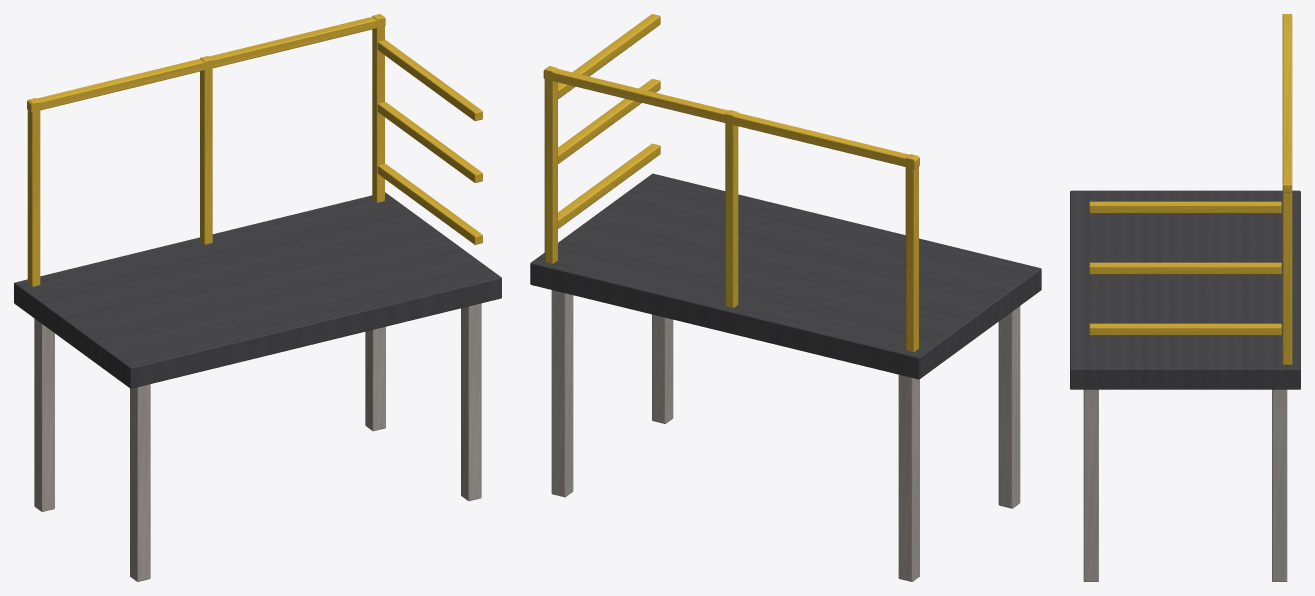
The model's file is service_platform.glb.
3 renders of one model, left to right at view 1: azimuth 30°, elevation 25°; view 2: azimuth 150°, elevation 25°; view 3: azimuth 270°, elevation 25°, orthographic. The views are drawn at different scales.
Visible parts, largest first — view 1: deck, top_rail, leg.004, leg.006, leg.005, rail_post, rail_post.001, rail_post.002, leg.007, side_rail.002, side_rail, side_rail.001; view 2: deck, top_rail, leg.007, leg.005, leg.004, rail_post, rail_post.001, rail_post.002, leg.006, side_rail, side_rail.001, side_rail.002; view 3: deck, leg.006, leg.007, side_rail, side_rail.001, side_rail.002, rail_post.002, top_rail.
Part boxes in pixels (x1,y1,x2,y2): deck: (14,192,501,388); top_rail: (27,16,385,112); leg.004: (130,384,150,581); leg.006: (461,303,481,500); leg.005: (34,318,54,511); rail_post: (27,98,40,286); rail_post.001: (200,56,212,244); rail_post.002: (372,14,384,202); leg.007: (365,326,385,431); side_rail.002: (377,40,482,121); side_rail: (377,163,482,244); side_rail.001: (377,102,482,182); deck: (530,173,1041,379); top_rail: (543,69,919,169); leg.007: (551,290,573,497); leg.005: (898,374,919,581); leg.004: (998,306,1020,508); rail_post: (905,154,918,351); rail_post.001: (725,110,738,307); rail_post.002: (544,66,557,263); leg.006: (652,314,673,423); side_rail: (558,143,660,228); side_rail.001: (558,79,660,163); side_rail.002: (558,14,660,98); deck: (1070,190,1300,389); leg.006: (1083,389,1098,581); leg.007: (1272,389,1287,581); side_rail: (1089,323,1281,335); side_rail.001: (1089,262,1281,274); side_rail.002: (1089,201,1281,213); rail_post.002: (1282,179,1292,364); top_rail: (1282,18,1292,192).
Size of the model in its own units: 2.2 by 2.3 by 1.2.
3 materials, 3 textured.
